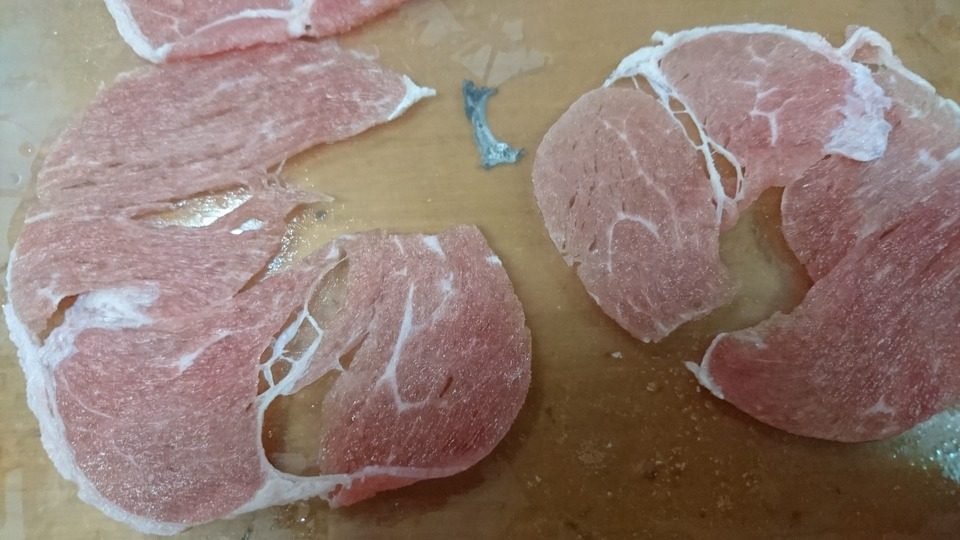restructured meat: (33, 78, 531, 507), (518, 29, 956, 430), (99, 2, 390, 61)
